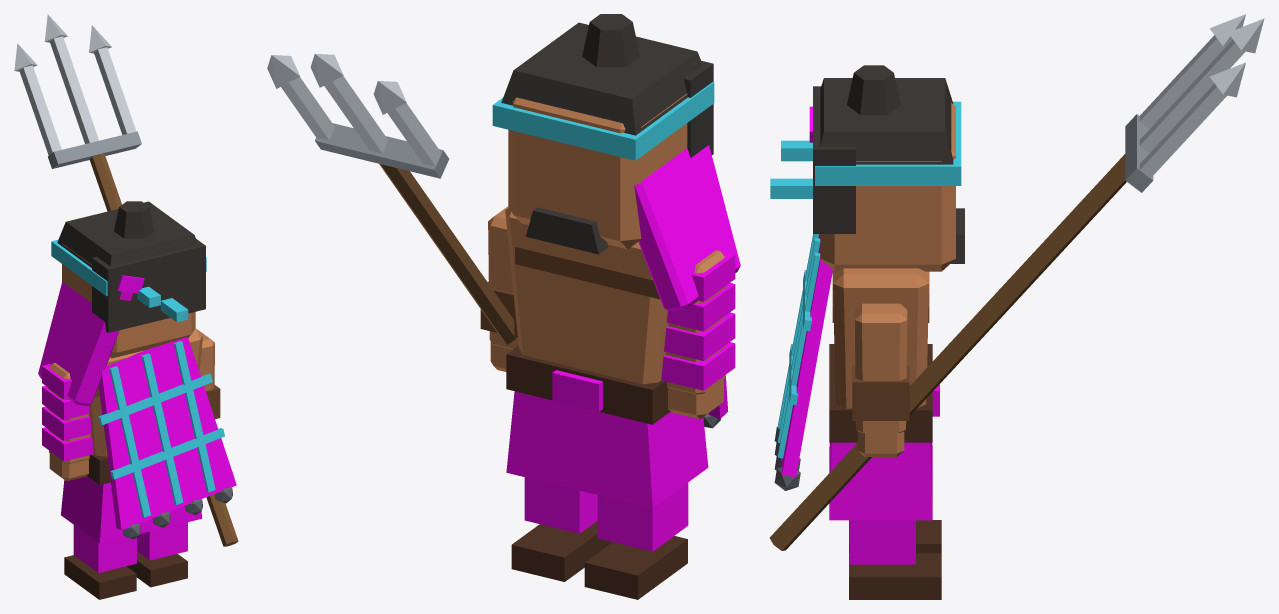
The model's file is CH_NetWeaver_PearlDiver.fbx.
3 renders of one model, left to right at view 1: azimuth 30°, elevation 25°; view 2: azimuth 150°, elevation 25°; view 3: azimuth 270°, elevation 25°, orthographic. The views are drawn at different scales.
Parts seen in each view (by area): view 1: Net, HairBack, Galerus, Hair, Skirt, Head, WrapL, SandalL, Shaft, Prong1, Bar, NetCordV1 (+26 smaller); view 2: Body, Skirt, Head, Hair, Galerus, Band, Belt, Shaft, SandalL, WrapL, SandalR, WrapR (+19 smaller); view 3: Head, Shaft, Hair, Body, Skirt, ArmR, SandalR, Band, HairBack, Net, WrapR, Belt (+14 smaller).
Boxes of the visible parts, x1,y1,x2,y2 form: Net: [98, 337, 236, 530]; HairBack: [92, 239, 205, 332]; Galerus: [38, 282, 133, 405]; Hair: [57, 201, 198, 267]; Skirt: [61, 476, 202, 543]; Head: [62, 243, 195, 358]; WrapL: [73, 525, 136, 572]; SandalL: [64, 555, 136, 599]; Shaft: [89, 153, 238, 546]; Prong1: [50, 36, 98, 143]; Bar: [48, 131, 141, 168]; NetCordV1: [141, 353, 183, 504]; Body: [505, 207, 668, 384]; Skirt: [506, 391, 708, 508]; Head: [508, 93, 687, 249]; Hair: [501, 22, 702, 135]; Galerus: [634, 145, 740, 311]; Band: [492, 82, 714, 160]; Belt: [506, 345, 670, 424]; Shaft: [379, 164, 515, 344]; SandalL: [584, 536, 687, 599]; WrapL: [597, 482, 688, 551]; SandalR: [511, 521, 612, 581]; WrapR: [524, 477, 597, 533]; Head: [820, 103, 955, 271]; Shaft: [769, 154, 1126, 550]; Hair: [820, 78, 953, 164]; Body: [833, 268, 928, 408]; Skirt: [829, 442, 932, 520]; ArmR: [855, 303, 907, 433]; SandalR: [849, 553, 941, 599]; Band: [815, 101, 961, 185]; HairBack: [813, 86, 855, 233]; Net: [782, 234, 832, 477]; WrapR: [849, 520, 915, 564]; Belt: [829, 344, 932, 442].
Bounding box in the file's own units: 0.8075 × 1.39 × 1.83.
